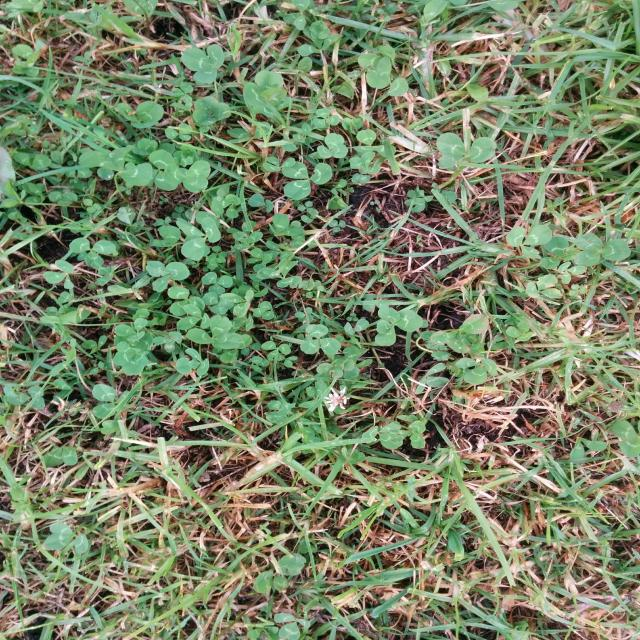Four Leaf Clover: (375, 307, 423, 346)
